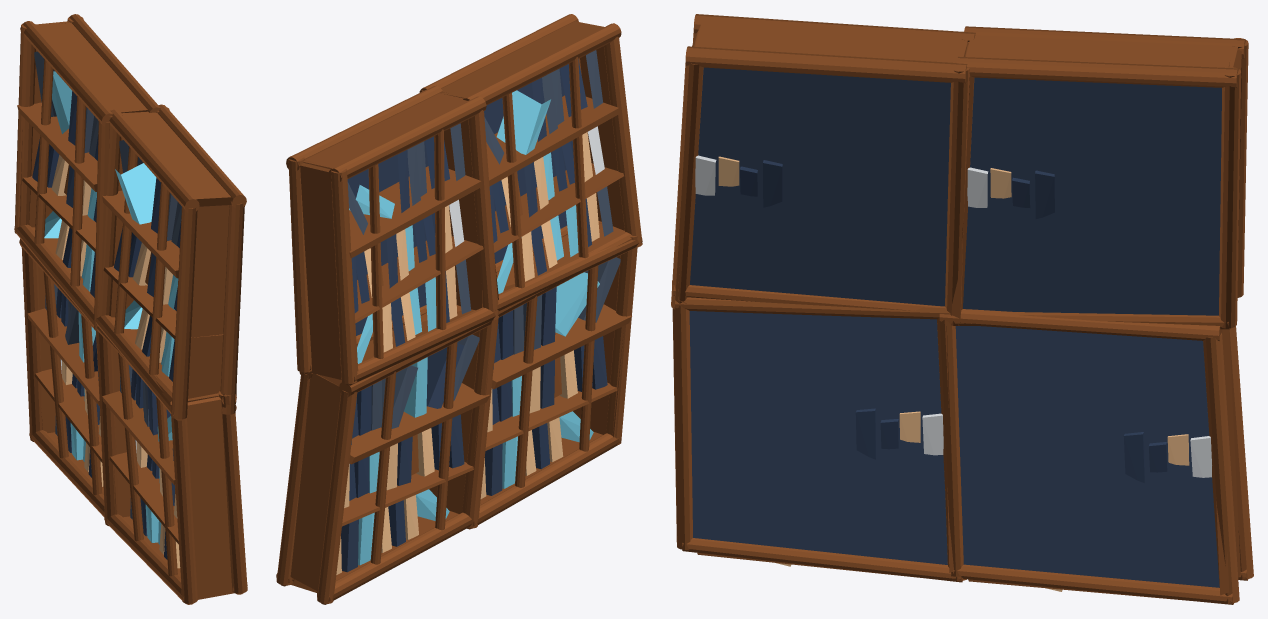
The model's file is bookshelf.glb.
3 views of the same model, side by side, from view 1: azimuth 30°, elevation 25°; view 2: azimuth 150°, elevation 25°; view 3: azimuth 270°, elevation 25° (orthographic). The views are drawn at different scales.
Parts seen in each view (by area): view 1: group1140854425, group742438179, group1277222791, group93335299, group1146959302, group1884002018, group2040108076, group633143504, group1269888978, group1497847545, group966664866, group227914780 (+20 smaller); view 2: group742438179, group1140854425, group634255084, group2040108076, group1146959302, group93335299, group1573889920, group966664866, group633143504, group1938683590, group1370981756, group1359852237 (+38 smaller); view 3: group742438179, group1140854425, group505671632, group1699351704, group93335299, group192929773, group1938683590, group1884002018, group283918997, group687955143, group370983626, group1751088038 (+8 smaller).
Part boxes in pixels (bbox=[...]): group1140854425: bbox=[96, 326, 247, 604]; group742438179: bbox=[14, 14, 160, 331]; group1277222791: bbox=[188, 205, 236, 402]; group93335299: bbox=[121, 111, 231, 206]; group1146959302: bbox=[171, 206, 197, 419]; group1884002018: bbox=[220, 203, 244, 414]; group2040108076: bbox=[21, 247, 42, 441]; group633143504: bbox=[109, 109, 199, 212]; group1269888978: bbox=[96, 112, 122, 323]; group1497847545: bbox=[149, 182, 169, 375]; group966664866: bbox=[27, 308, 99, 405]; group227914780: bbox=[43, 271, 68, 458]; group742438179: bbox=[286, 85, 499, 385]; group1140854425: bbox=[429, 220, 637, 529]; group634255084: bbox=[290, 373, 340, 591]; group2040108076: bbox=[317, 390, 357, 603]; group1146959302: bbox=[603, 36, 642, 247]; group93335299: bbox=[441, 21, 604, 98]; group1573889920: bbox=[486, 95, 620, 186]; group966664866: bbox=[349, 383, 489, 464]; group633143504: bbox=[463, 23, 621, 105]; group1938683590: bbox=[276, 373, 309, 585]; group1370981756: bbox=[493, 163, 623, 252]; group1359852237: bbox=[317, 512, 472, 604]; group742438179: bbox=[948, 26, 1248, 329]; group1140854425: bbox=[672, 281, 966, 582]; group505671632: bbox=[955, 326, 1219, 587]; group1699351704: bbox=[690, 67, 950, 306]; group93335299: bbox=[694, 23, 967, 62]; group192929773: bbox=[685, 46, 967, 83]; group1938683590: bbox=[1203, 333, 1239, 603]; group1884002018: bbox=[671, 63, 703, 309]; group283918997: bbox=[953, 564, 1233, 604]; group687955143: bbox=[939, 309, 1222, 340]; group370983626: bbox=[945, 62, 969, 315]; group1751088038: bbox=[944, 321, 963, 576].
Size of the model in its own units: 0.6726 by 1.98 by 1.96.
